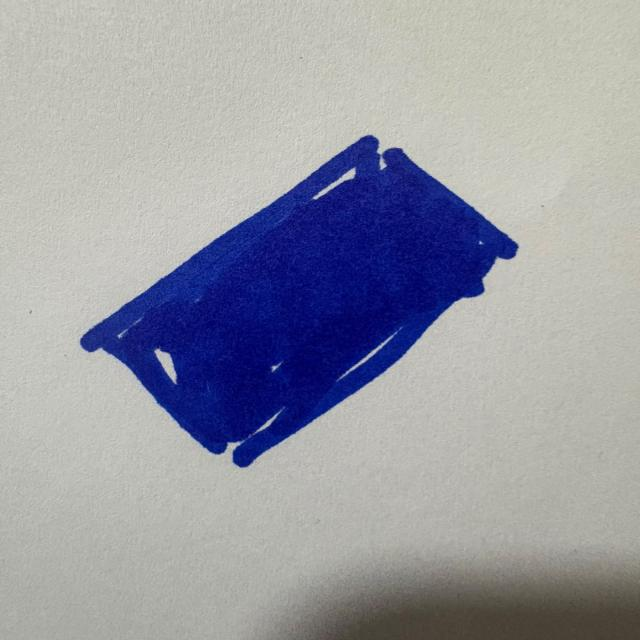Rectangle: (81, 136, 517, 466)
